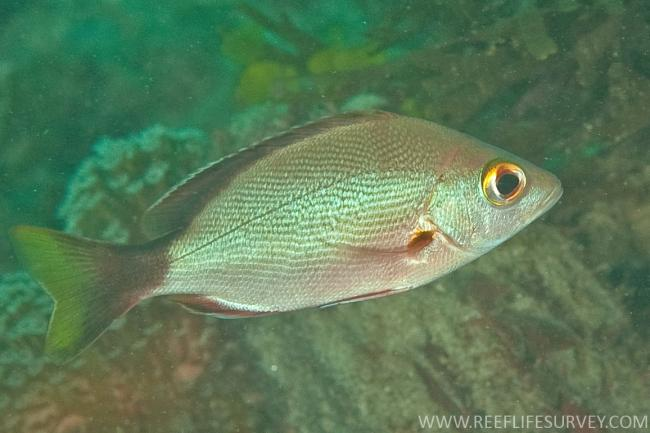fish: (9, 107, 563, 358)
